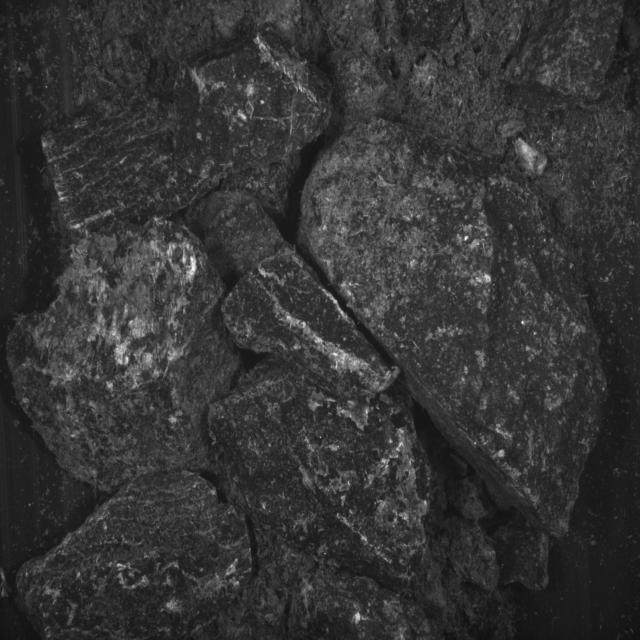Stones: (300, 121, 606, 537), (9, 221, 242, 491), (210, 359, 431, 588), (17, 472, 252, 640), (222, 245, 400, 398), (42, 99, 217, 237), (176, 31, 332, 180), (186, 191, 285, 286)
